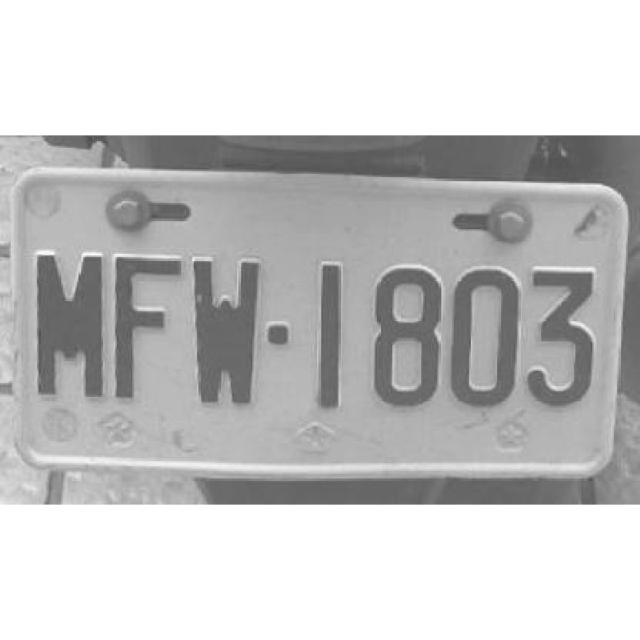-: (265, 320, 292, 345)
0: (449, 263, 522, 409)
1: (314, 257, 343, 411)
3: (528, 262, 597, 409)
8: (369, 264, 445, 410)
F: (110, 249, 182, 402)
M: (32, 249, 105, 400)
W: (188, 255, 263, 408)
